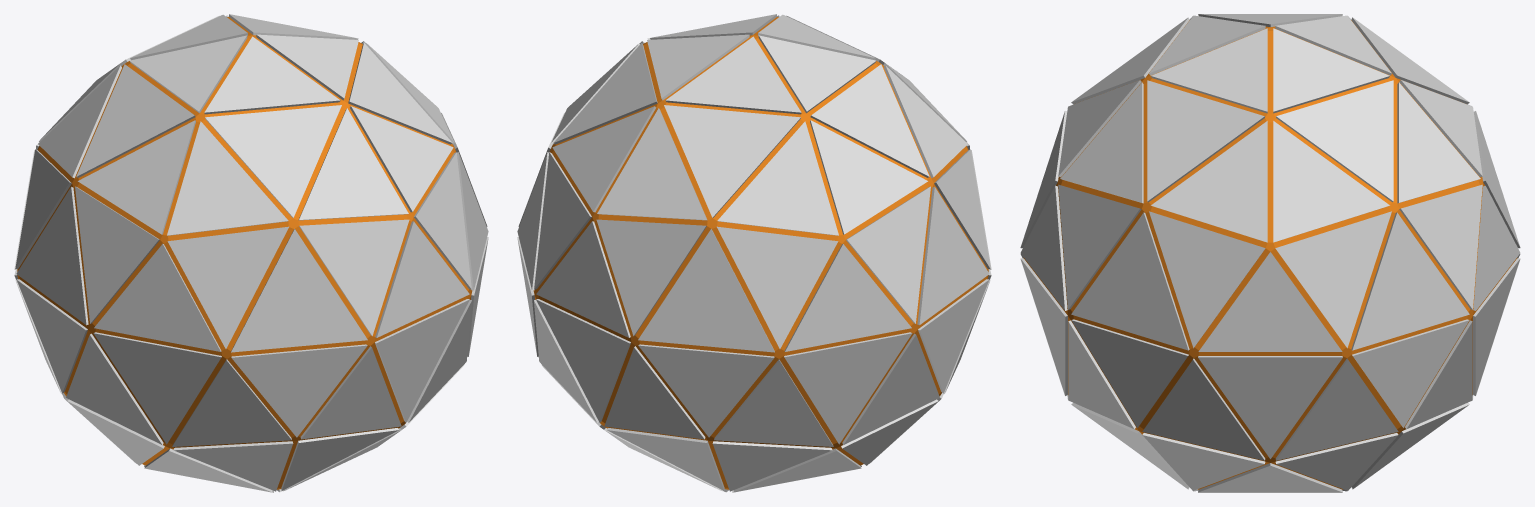
The picture shows the model from 3 angles, left to right: view 1: azimuth 30°, elevation 25°; view 2: azimuth 150°, elevation 25°; view 3: azimuth 270°, elevation 25°; orthographic projection. The views are drawn at different scales.
Visible parts, largest first — view 1: Icosphere; view 2: Icosphere; view 3: Icosphere.
Boxes of the visible parts, left/top/right/bottom form: Icosphere: left=14, top=14, right=488, bottom=492; Icosphere: left=517, top=14, right=991, bottom=492; Icosphere: left=1020, top=14, right=1520, bottom=492.
Size of the model in its own units: 190 by 199 by 198.
